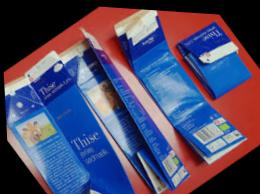cardboard: (47, 11, 188, 192), (114, 10, 251, 188), (5, 41, 143, 193), (158, 11, 259, 101)
